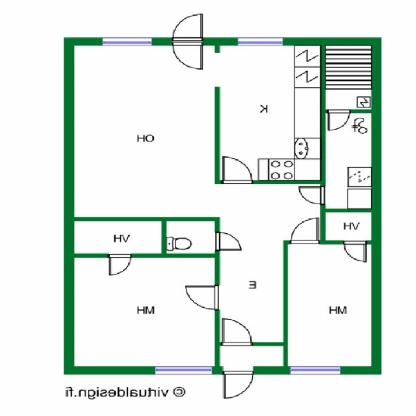door: (171, 11, 209, 72), (184, 282, 220, 312), (290, 213, 321, 245), (226, 372, 258, 399), (220, 320, 252, 346), (214, 232, 245, 255), (107, 254, 134, 276), (298, 185, 326, 206), (344, 238, 366, 264)
window: (292, 364, 340, 376), (236, 37, 282, 48), (103, 38, 151, 48), (156, 366, 212, 374)
zone: (75, 46, 323, 372), (76, 256, 212, 366), (288, 243, 372, 365), (326, 113, 371, 206), (324, 46, 370, 109), (74, 221, 161, 252), (166, 222, 214, 251), (326, 212, 374, 241)
